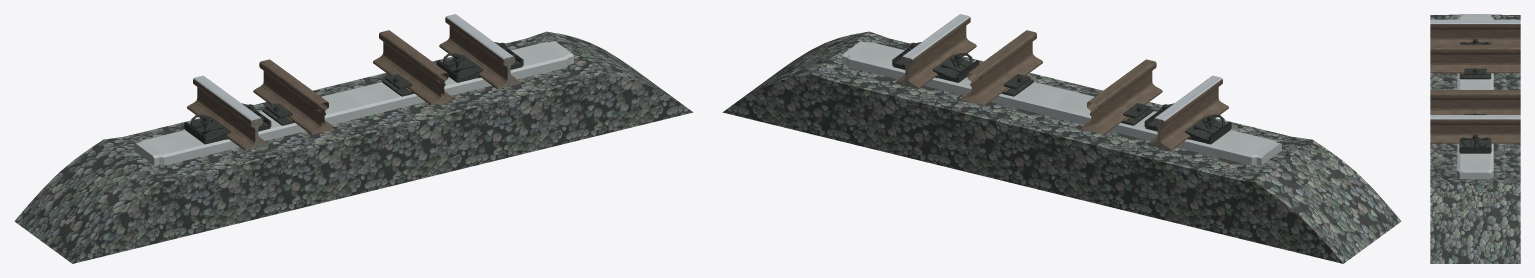
The model's file is center_guard_old_high.obj.
3 views of the same model, side by side, from view 1: azimuth 30°, elevation 25°; view 2: azimuth 150°, elevation 25°; view 3: azimuth 270°, elevation 25° (orthographic). The views are drawn at different scales.
Visible parts, largest first — view 1: ballast, sleeper, center_guard_left, center_guard_right, rail_left, rail_right, fastener_left, fastener_right, center_fastener_left, center_fastener_right; view 2: ballast, sleeper, center_guard_left, center_guard_right, rail_left, rail_right, fastener_left, fastener_right, center_fastener_left, center_fastener_right; view 3: ballast, center_guard_left, rail_right, rail_left, center_guard_right, sleeper, fastener_right, center_fastener_left, fastener_left.
Boxes of the visible parts, box(x1,y1,x2,y2) form: ballast: box(14, 31, 693, 263); sleeper: box(134, 41, 573, 165); center_guard_left: box(253, 59, 334, 134); center_guard_right: box(373, 30, 454, 105); rail_left: box(187, 75, 266, 150); rail_right: box(439, 14, 519, 88); fastener_left: box(184, 103, 271, 144); fastener_right: box(436, 42, 523, 82); center_fastener_left: box(262, 103, 325, 125); center_fastener_right: box(382, 74, 445, 96); ballast: box(722, 31, 1401, 263); sleeper: box(842, 41, 1281, 165); center_guard_left: box(1081, 59, 1162, 134); center_guard_right: box(961, 30, 1042, 105); rail_left: box(1149, 75, 1228, 150); rail_right: box(896, 14, 976, 88); fastener_left: box(1144, 103, 1231, 144); fastener_right: box(892, 42, 979, 82); center_fastener_left: box(1090, 103, 1153, 125); center_fastener_right: box(970, 74, 1033, 96); ballast: box(1430, 14, 1520, 263); center_guard_left: box(1430, 44, 1520, 73); rail_right: box(1430, 115, 1520, 143); rail_left: box(1430, 19, 1520, 44); center_guard_right: box(1430, 90, 1520, 114); sleeper: box(1457, 14, 1493, 179); fastener_right: box(1459, 134, 1491, 153); center_fastener_left: box(1459, 68, 1491, 79); fastener_left: box(1459, 39, 1491, 44).
Size of the model in its own units: 3.7 by 0.5683 by 0.6.
